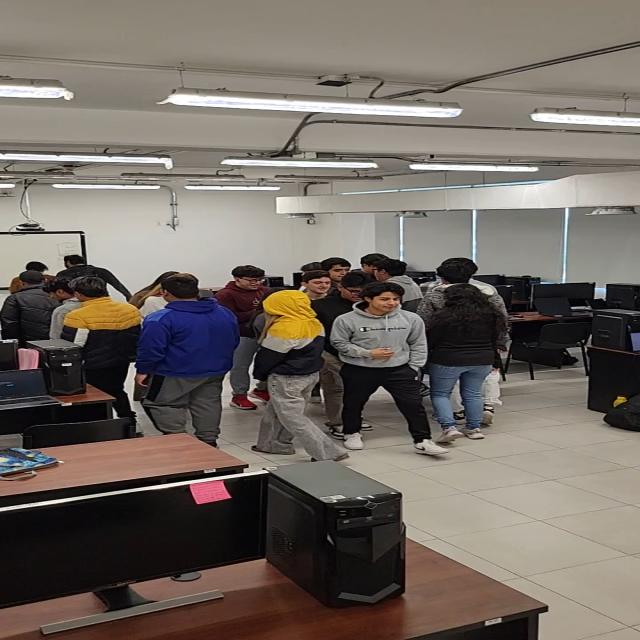Persona: (335, 284, 436, 462), (134, 276, 222, 449), (255, 290, 342, 460), (431, 280, 502, 452), (57, 274, 133, 420), (224, 262, 266, 409)
